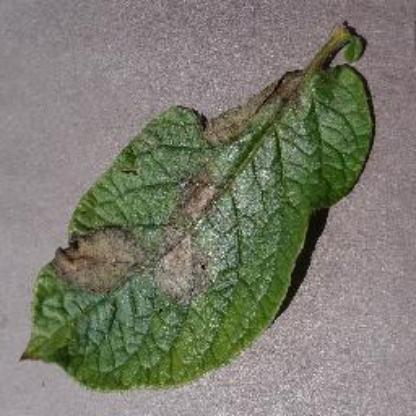Late-Blight: (29, 8, 379, 376)
